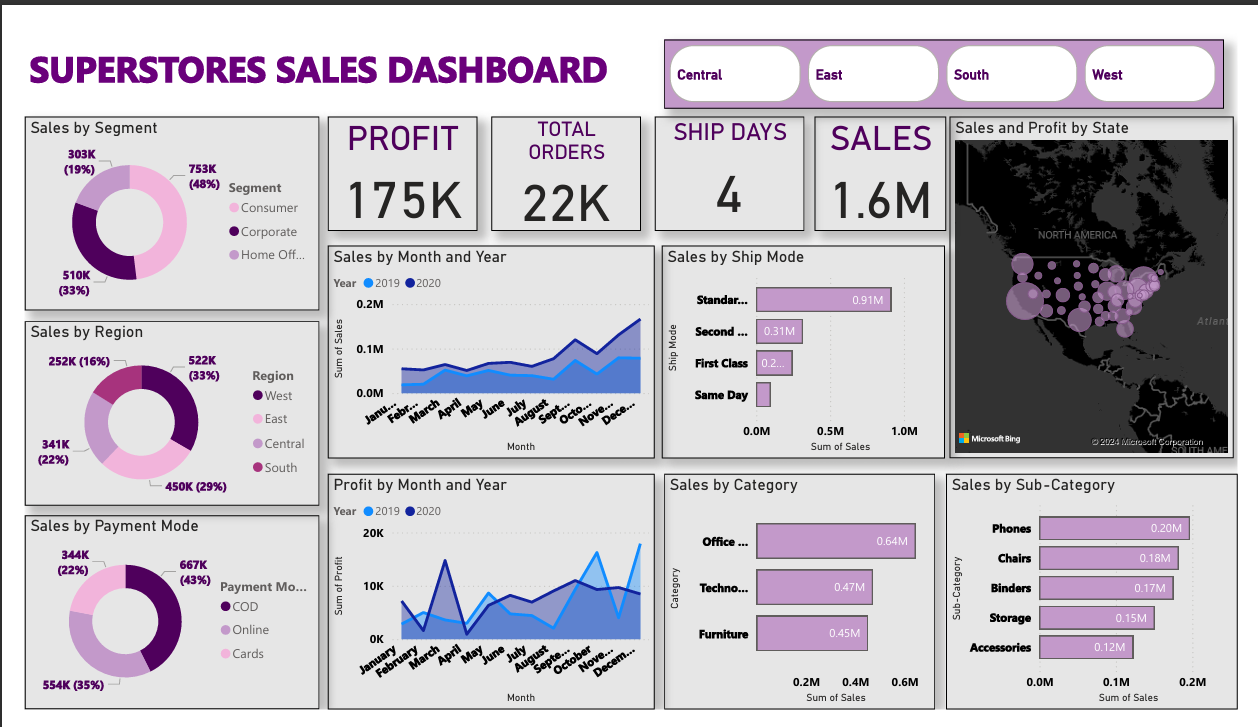

The page's visual inventory and layout, read from the dashboard file:
{"tool":"powerbi","page":{"name":"DASHBOARD","canvas":[1280,720],"ordinal":1},"visuals":[{"type":"clusteredBarChart","title":"Sales by Category","fields":{"Category":["Sheet1.Category"],"Y":["Sum(Sheet1.Sales)"]},"box":[675,471.2,286.2,248.8],"z":0},{"type":"clusteredBarChart","title":"Sales by Sub-Category","fields":{"Category":["Sheet1.Sub-Category"],"Y":["Sum(Sheet1.Sales)"]},"box":[972.2,471.1,307.8,248.9],"z":1000},{"type":"map","title":"Sales and Profit by State","fields":{"Category":["Sheet1.State"],"Size":["Sum(Sheet1.Sales)"]},"box":[976.2,93.8,300,361.2],"z":2000},{"type":"clusteredBarChart","title":"Sales by Ship Mode","fields":{"Category":["Sheet1.Ship Mode"],"Y":["Sum(Sheet1.Sales)"]},"box":[672.5,230,298.8,225],"z":3000},{"type":"areaChart","title":"Sales by Month and Year","fields":{"Category":["Sheet1.Order Date.Variation.Date Hierarchy.Month"],"Y":["Sum(Sheet1.Sales)"],"Series":["Sheet1.Order Date.Variation.Date Hierarchy.Year"]},"box":[320,230,345,225],"z":4000},{"type":"areaChart","title":"Profit by Month and Year","fields":{"Category":["Sheet1.Order Date.Variation.Date Hierarchy.Month"],"Y":["Sum(Sheet1.Profit)"],"Series":["Sheet1.Order Date.Variation.Date Hierarchy.Year"]},"box":[320,471.2,345,248.8],"z":5000},{"type":"donutChart","title":"Sales by Segment","fields":{"Category":["Sheet1.Segment"],"Y":["Sum(Sheet1.Sales)"]},"box":[0,93.8,311.2,205],"z":6000},{"type":"donutChart","title":"Sales by Payment Mode","fields":{"Category":["Sheet1.Payment Mode"],"Y":["Sum(Sheet1.Sales)"]},"box":[0,515,311.2,205],"z":7000},{"type":"donutChart","title":"Sales by Region","fields":{"Y":["Sum(Sheet1.Sales)"],"Category":["Sheet1.Region"]},"box":[0,310,311.2,195],"z":8000},{"type":"card","title":"SALES","fields":{"Values":["Sum(Sheet1.Sales)"]},"box":[833.8,93.8,138.8,121.2],"z":9000},{"type":"card","title":"       PROFIT","fields":{"Values":["Sum(Sheet1.Profit)"]},"box":[320,93.8,157.5,121.2],"z":10000},{"type":"card","title":"TOTAL ORDERS","fields":{"Values":["Sum(Sheet1.Quantity)"]},"box":[492.5,93.8,157.5,121.2],"z":11000},{"type":"card","title":"SHIP DAYS","fields":{"Values":["Avg(Sheet1.Dilievery days)"]},"box":[665,93.8,157.5,121.2],"z":12000},{"type":"advancedSlicerVisual","fields":{"Values":["Sheet1.Region"]},"box":[675,12.5,591.2,72.5],"z":13000},{"type":"textbox","box":[0,12.5,650,72.5],"z":14000}]}

Visuals, with their boxes in screenshot pixels (x1, y1, x2, y2), scaled from the page's 1280x720 canvas onto the 1258x727 screenshot:
"Sales by Category" clusteredBarChart: 663 476 945 726
"Sales by Sub-Category" clusteredBarChart: 955 476 1257 726
"Sales and Profit by State" map: 959 95 1254 459
"Sales by Ship Mode" clusteredBarChart: 661 232 955 459
"Sales by Month and Year" areaChart: 314 232 654 459
"Profit by Month and Year" areaChart: 314 476 654 726
"Sales by Segment" donutChart: 0 95 306 302
"Sales by Payment Mode" donutChart: 0 520 306 726
"Sales by Region" donutChart: 0 313 306 510
"SALES" card: 819 95 956 217
"       PROFIT" card: 314 95 469 217
"TOTAL ORDERS" card: 484 95 639 217
"SHIP DAYS" card: 654 95 808 217
advancedSlicerVisual - Sheet1.Region: 663 13 1244 86
textbox: 0 13 639 86
